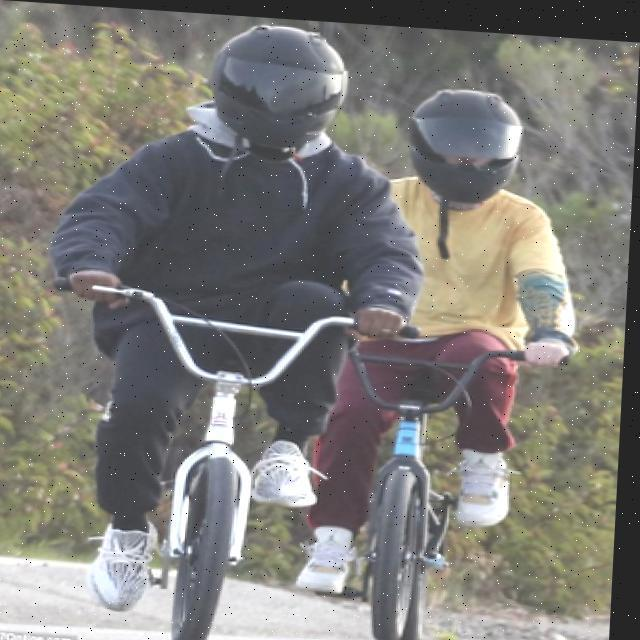Helmet: (200, 12, 362, 170), (406, 74, 532, 214)
